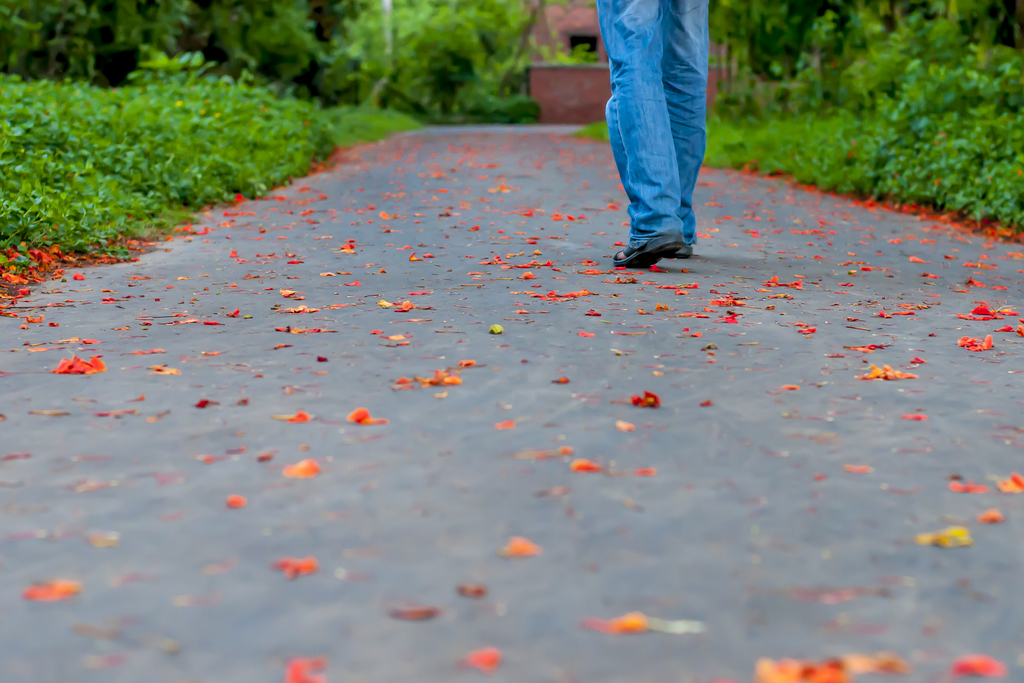Tree: (0, 0, 1024, 114)
